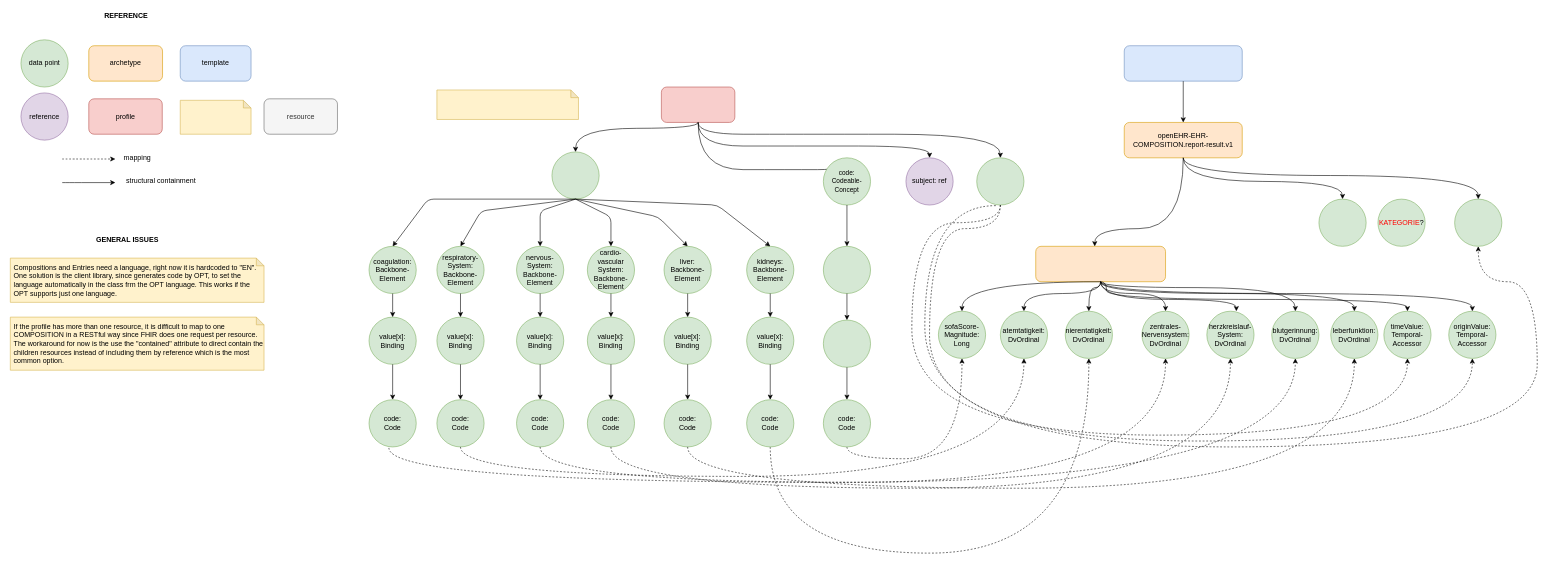
Image size: 1548x563. Some labels were removed from this diagram. The centre of each missing label's shape, as x and y in pixels:
"coding: Coding" goes at (847,270).
"component: Backbone- Element" goes at (575,175).
"effective: dateTime" goes at (1000,181).
"https://simplifier.net/forschungsnetzcovid-19/sofa" goes at (507,104).
"note" goes at (215,117).
"openEHR-EHR-OBSERVATION.sofa_score.v0" goes at (1100,264).
"SOFA Score" goes at (698,104).
"SOFA-SCORE" goes at (1183,63).
"sofascore- coding: Coding" goes at (847,343).
"start- timeValue: DateTime" goes at (1478,222).
"statusDefining- Code: String" goes at (1342,222).
